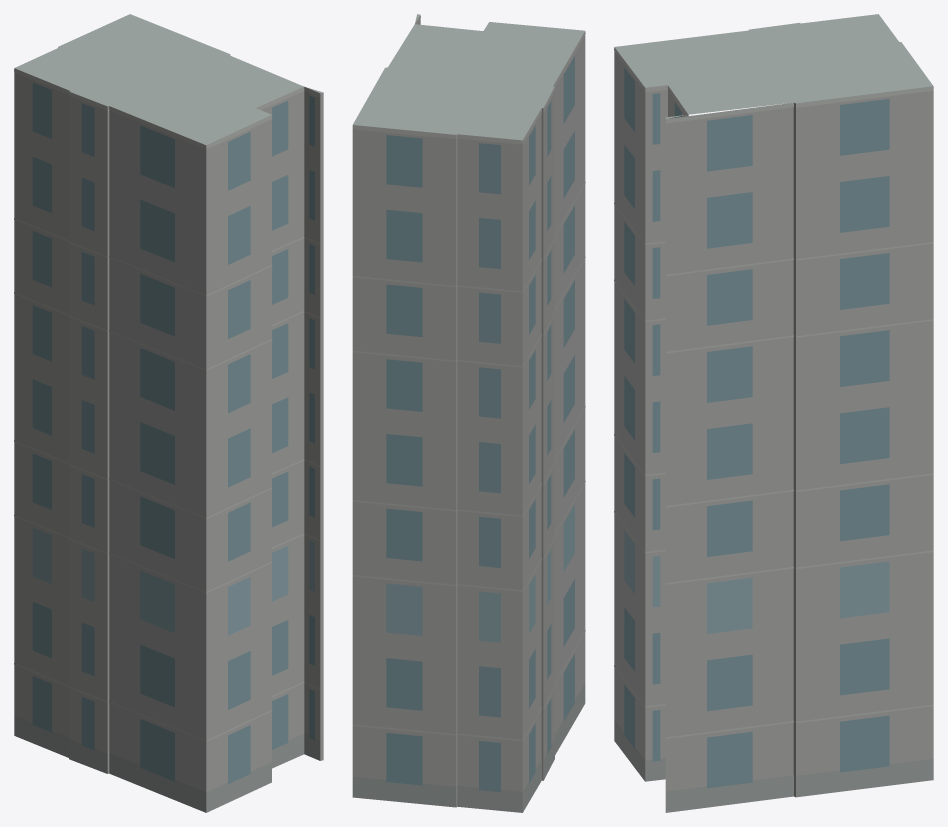
The model's file is survey-upis-32527179.glb.
3 views of the same model, side by side, from view 1: azimuth 30°, elevation 25°; view 2: azimuth 150°, elevation 25°; view 3: azimuth 270°, elevation 25° (orthographic). The views are drawn at different scales.
Parts seen in each view (by area): view 1: survey-upis-32527179.tmp; view 2: survey-upis-32527179.tmp; view 3: survey-upis-32527179.tmp.
Boxes of the visible parts, x1,y1,x2,y2 form: survey-upis-32527179.tmp: (14, 14, 323, 812); survey-upis-32527179.tmp: (352, 14, 585, 812); survey-upis-32527179.tmp: (614, 14, 933, 812).
Size of the model in its own units: 12.1 by 37.2 by 15.54.
